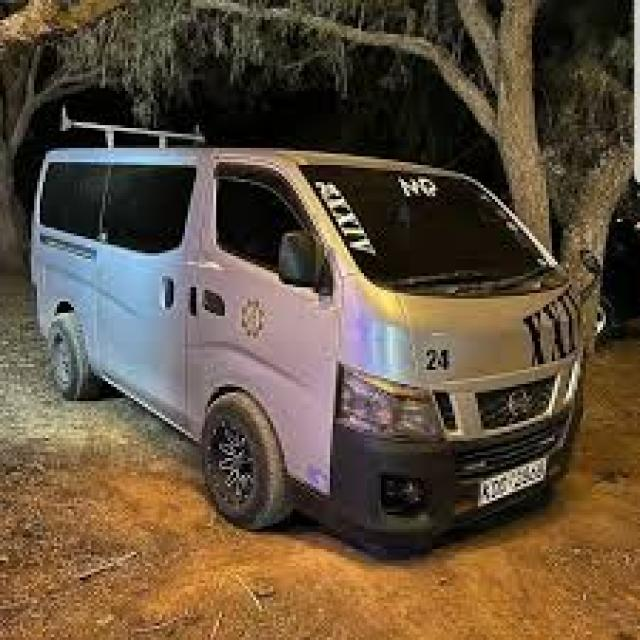matatu: (12, 70, 620, 611)
